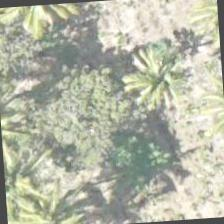Kelapa_Sawit: (111, 28, 208, 124), (5, 171, 100, 223)
